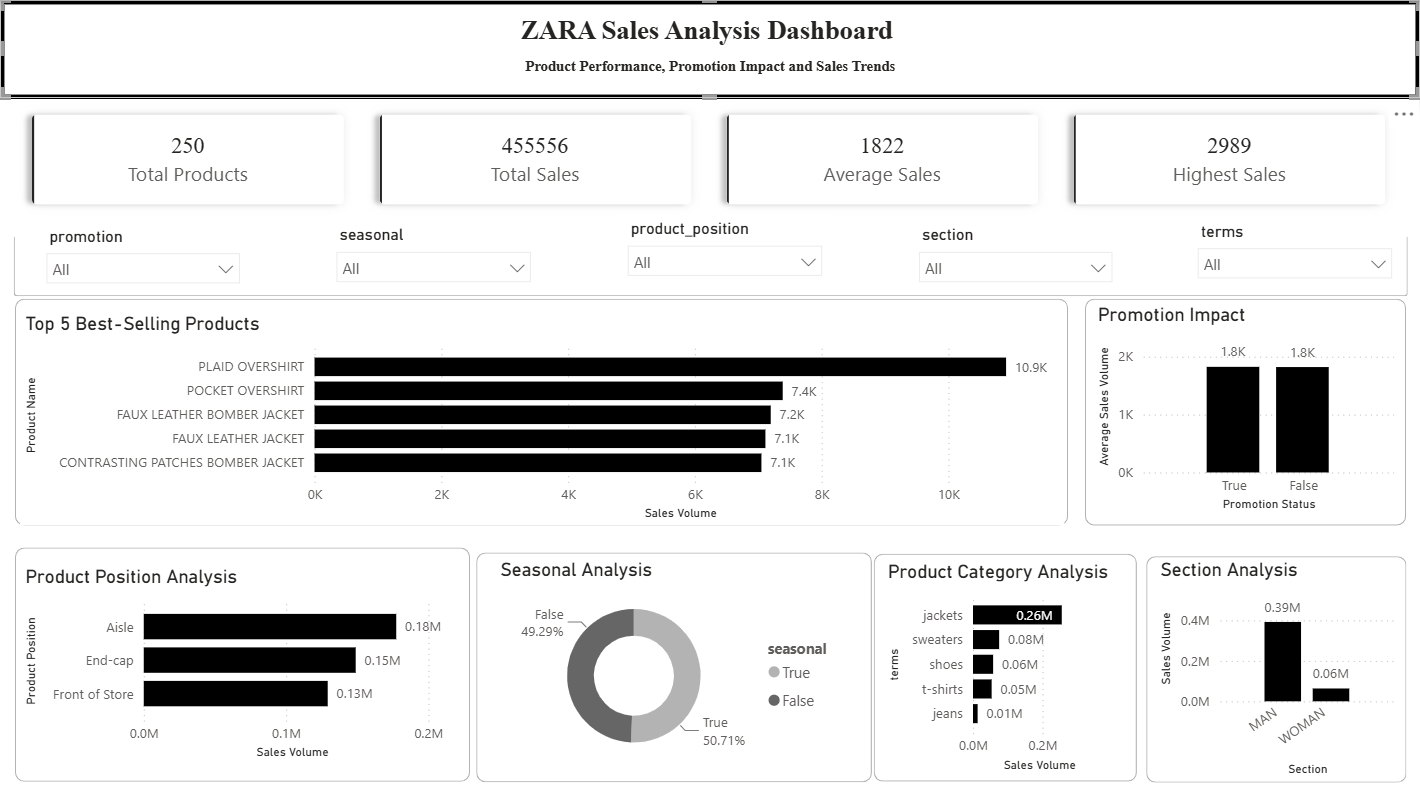

What the dashboard file says about the page in this screenshot:
{"tool":"powerbi","page":{"name":"Page 1","canvas":[1280,720],"ordinal":0},"visuals":[{"type":"shape","box":[12.2,194.4,1257.1,72.1],"z":0},{"type":"shape","box":[787.5,498.9,237.2,205.4],"z":1000},{"type":"shape","box":[429.5,498.1,356.8,207.2],"z":2000},{"type":"shape","box":[13.7,269,949.6,204.5],"z":3000},{"type":"shape","box":[0,0,1280.3,89.3],"z":4000},{"type":"shape","box":[1033.3,501.4,234.8,204.2],"z":5000},{"type":"shape","box":[13.7,494,410.3,211.3],"z":6000},{"type":"shape","box":[978.4,269,289.5,204.5],"z":7000},{"type":"clusteredBarChart","title":"Top 5 Best-Selling Products","fields":{"Category":["zara_sales_cleaned.name"],"Y":["Sum(zara_sales_cleaned.sales_volume)"]},"box":[17.8,281.3,941.3,192.1],"z":8000},{"type":"clusteredColumnChart","title":"Promotion Impact","fields":{"Category":["zara_sales_cleaned.promotion"],"Y":["Avg(zara_sales_cleaned.sales_volume)"]},"box":[985.3,274.4,277.2,192.1],"z":9000},{"type":"clusteredBarChart","title":"Product Position Analysis","fields":{"Category":["zara_sales_cleaned.product_position"],"Y":["Sum(zara_sales_cleaned.sales_volume)"]},"box":[17.8,509.1,399.3,179.8],"z":10000},{"type":"donutChart","title":"Seasonal Analysis","fields":{"Category":["zara_sales_cleaned.seasonal"],"Y":["Sum(zara_sales_cleaned.sales_volume)"]},"box":[446,503.6,323.8,192.1],"z":11000},{"type":"textbox","box":[31.6,9,1211.7,37.2],"z":12000},{"type":"cardVisual","fields":{"Data":["zara_sales_cleaned.Total Products","zara_sales_cleaned.Total Sales","zara_sales_cleaned.Average Sales","zara_sales_cleaned.Highest Sales"]},"box":[0,74.6,1280.3,139.4],"z":13000},{"type":"clusteredColumnChart","title":"Section Analysis","fields":{"Category":["zara_sales_cleaned.section"],"Y":["Sum(zara_sales_cleaned.sales_volume)"]},"box":[1041.9,503.8,221.3,200.5],"z":14000},{"type":"slicer","fields":{"Values":["zara_sales_cleaned.promotion"]},"box":[31.8,199.3,194.4,63.6],"z":15000},{"type":"slicer","fields":{"Values":["zara_sales_cleaned.seasonal"]},"box":[293.5,198.1,195.7,64.8],"z":16000},{"type":"slicer","fields":{"Values":["zara_sales_cleaned.product_position"]},"box":[555.2,193.2,195.7,68.5],"z":17000},{"type":"slicer","fields":{"Values":["zara_sales_cleaned.section"]},"box":[818.1,198.1,194.4,67.3],"z":18000},{"type":"slicer","fields":{"Values":["zara_sales_cleaned.terms"]},"box":[1070,194.4,195.7,68.5],"z":19000},{"type":"clusteredBarChart","title":"Product Category Analysis","fields":{"Category":["zara_sales_cleaned.terms"],"Y":["Sum(zara_sales_cleaned.sales_volume)"]},"box":[796.1,505,221.3,195.7],"z":20000},{"type":"textbox","box":[18.3,45.2,1244.8,29.3],"z":21000},{"type":"shape","box":[0,0,1280.3,89.3],"z":22000}]}

Visuals, with their boxes in screenshot pixels (x1, y1, x2, y2), scaled from the page's 1280x720 canvas onto the 1420x794 screenshot:
shape: rect(14, 214, 1408, 294)
shape: rect(874, 550, 1137, 777)
shape: rect(476, 549, 872, 778)
shape: rect(15, 297, 1069, 522)
shape: rect(0, 0, 1419, 98)
shape: rect(1146, 553, 1407, 778)
shape: rect(15, 545, 470, 778)
shape: rect(1085, 297, 1407, 522)
"Top 5 Best-Selling Products" clusteredBarChart: rect(20, 310, 1064, 522)
"Promotion Impact" clusteredColumnChart: rect(1093, 303, 1401, 514)
"Product Position Analysis" clusteredBarChart: rect(20, 561, 463, 760)
"Seasonal Analysis" donutChart: rect(495, 555, 854, 767)
textbox: rect(35, 10, 1379, 51)
cardVisual - zara_sales_cleaned.Total Products x zara_sales_cleaned.Total Sales: rect(0, 82, 1419, 236)
"Section Analysis" clusteredColumnChart: rect(1156, 556, 1401, 777)
slicer - zara_sales_cleaned.promotion: rect(35, 220, 251, 290)
slicer - zara_sales_cleaned.seasonal: rect(326, 218, 543, 290)
slicer - zara_sales_cleaned.product_position: rect(616, 213, 833, 289)
slicer - zara_sales_cleaned.section: rect(908, 218, 1123, 293)
slicer - zara_sales_cleaned.terms: rect(1187, 214, 1404, 290)
"Product Category Analysis" clusteredBarChart: rect(883, 557, 1129, 773)
textbox: rect(20, 50, 1401, 82)
shape: rect(0, 0, 1419, 98)
